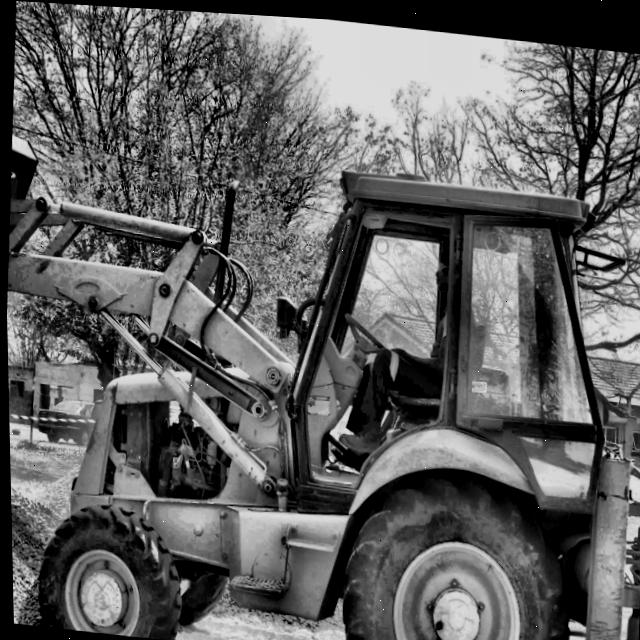buldozerpayloadergrader: (0, 27, 640, 640)
